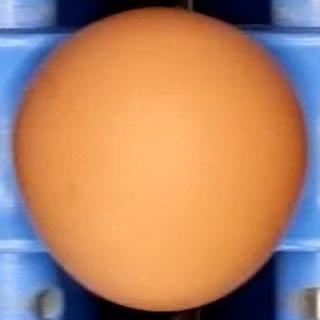Telur: (12, 6, 302, 312)
